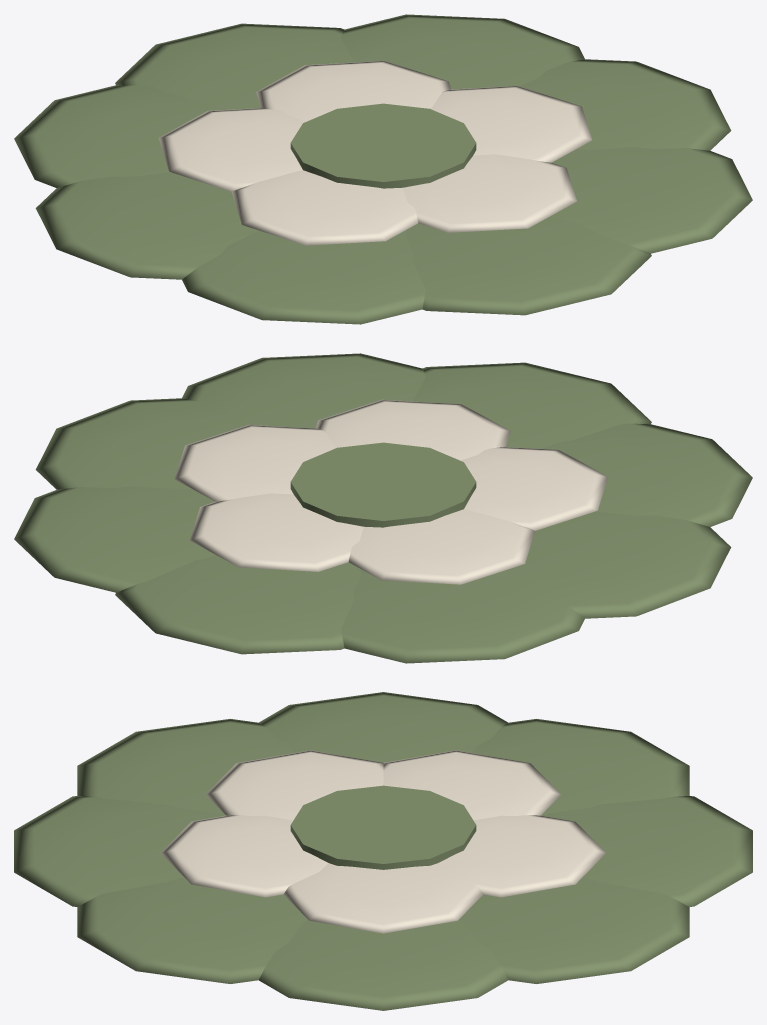
Rendered from bathroom_ref_flower_mat.glb.
The picture shows the model from 3 angles, top to bottom: view 1: azimuth 30°, elevation 25°; view 2: azimuth 150°, elevation 25°; view 3: azimuth 270°, elevation 25°; orthographic projection.
Bounding box in the file's own units: 1.22 × 0.0655 × 1.19.
